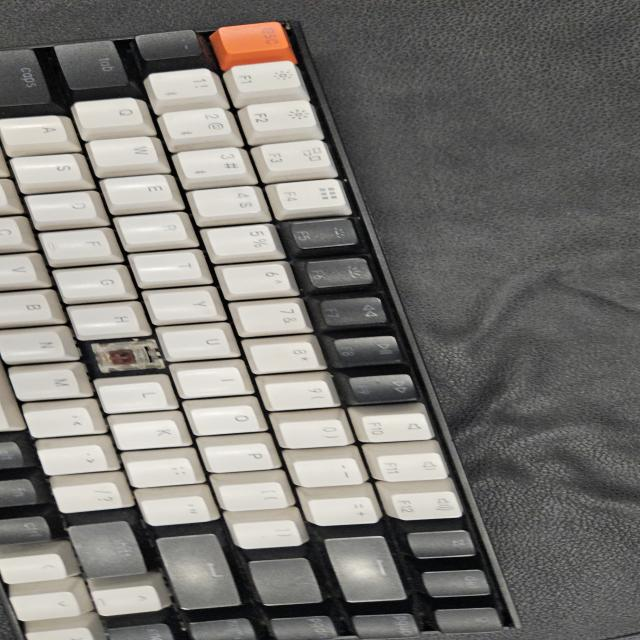C: (97, 345, 145, 370)
